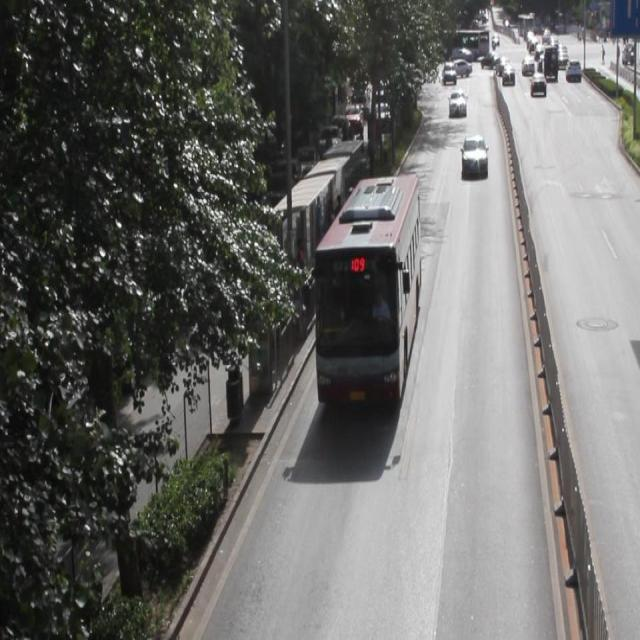car: (460, 133, 488, 173), (447, 88, 466, 112)
van: (314, 174, 418, 400)
